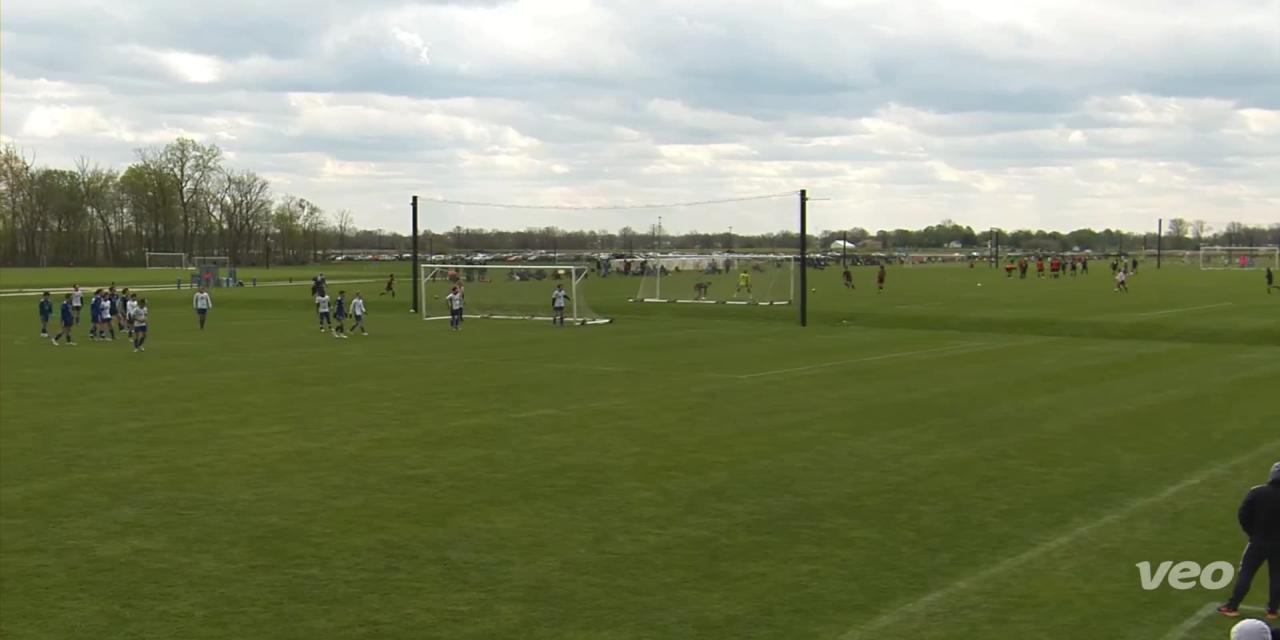goal: (415, 260, 631, 338)
